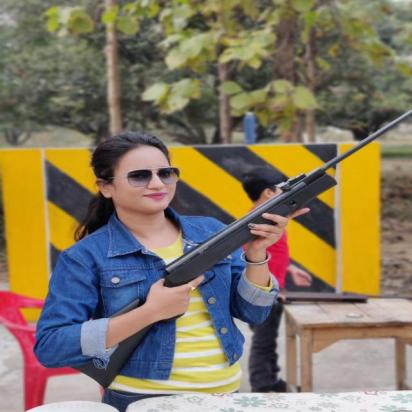Gun: (158, 184, 402, 283)
